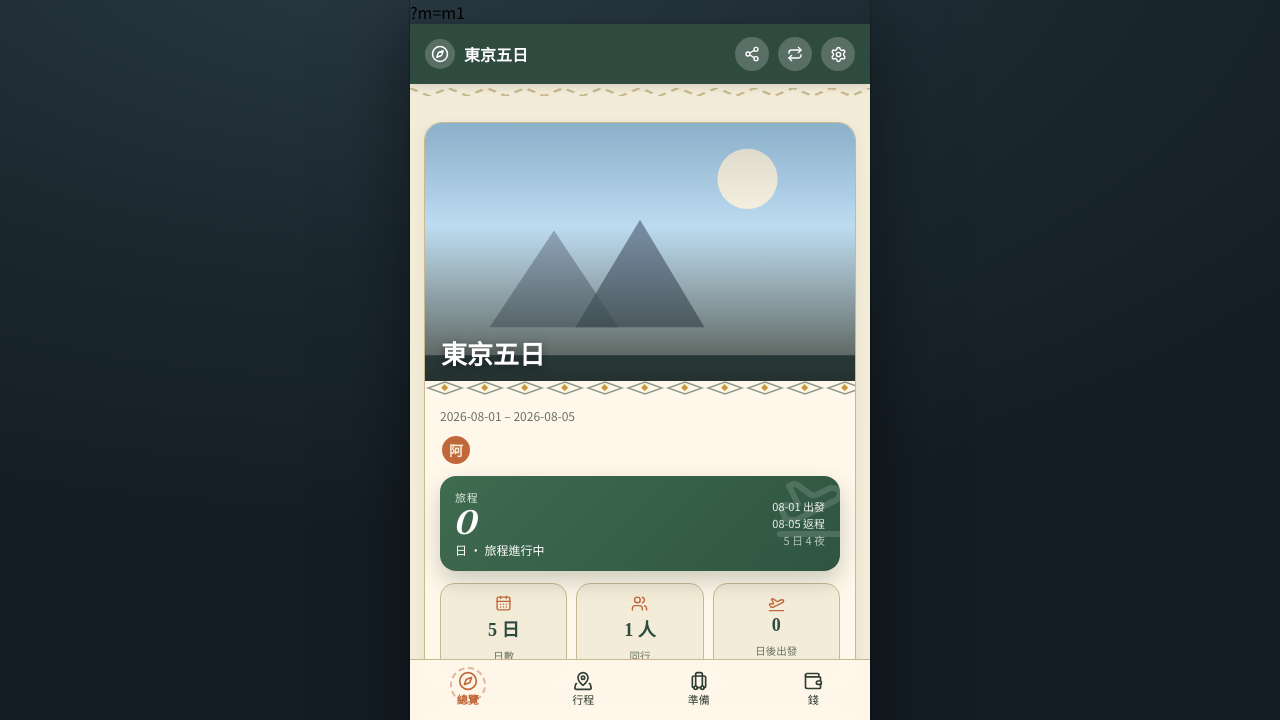
Scenario: TripShell › passes the trip share code into settings so members can copy a friend-invite link
Click the button named "設定" at (838, 54), box left=821, top=37, right=855, bottom=71
(page scrolled)
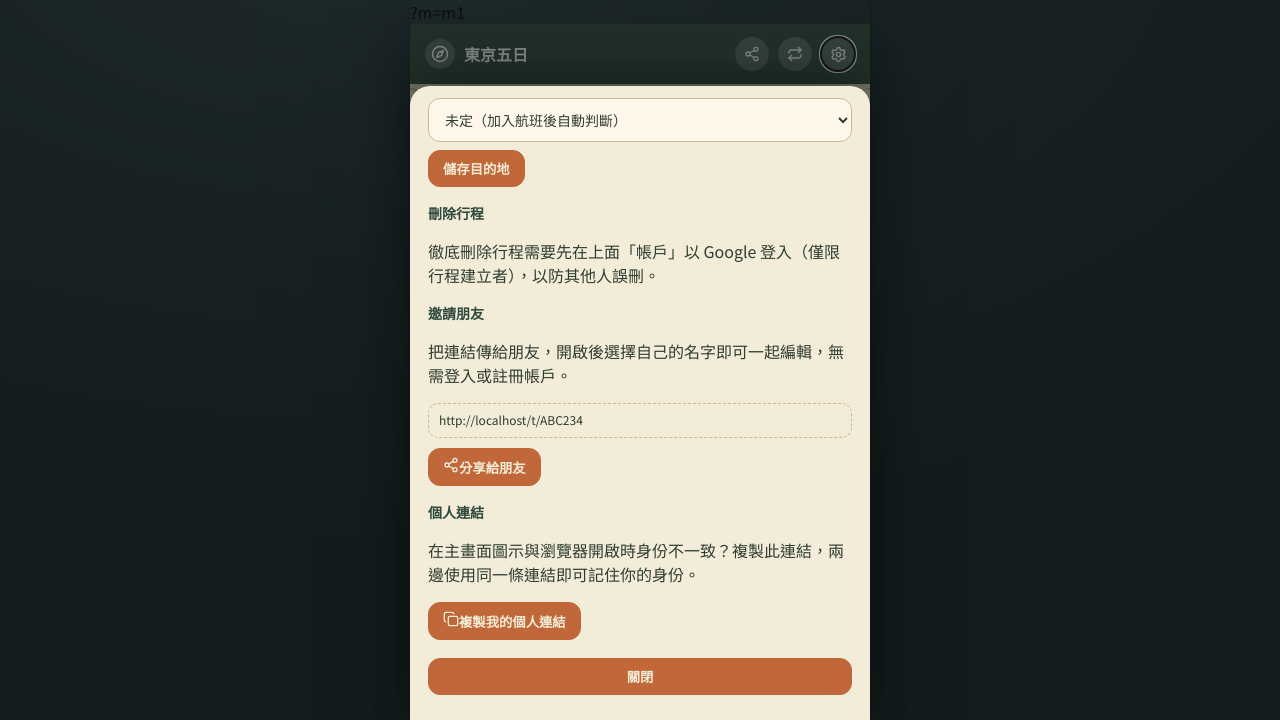
Expected: the heading "邀請朋友" is shown, left=428, top=304, right=484, bottom=323
Expected: the button "分享給朋友" is shown, left=428, top=448, right=541, bottom=486
